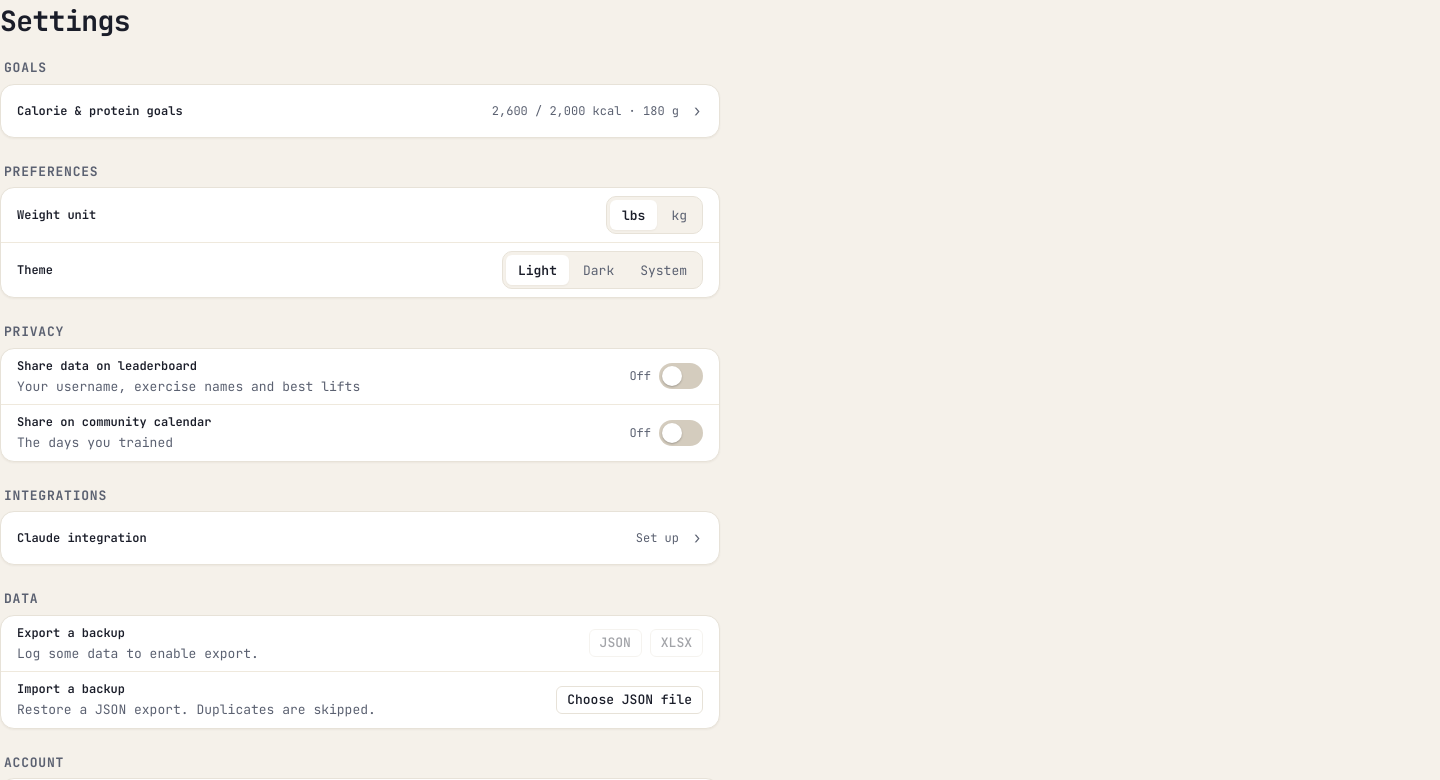
Test: Settings — phone layout › opens a typed edit in a bottom sheet dialog instead of under the row
Click the button "Calorie & protein goals 2,600 / 2,000 kcal · 180 g ›": (100, 110) [1,84,719,136]
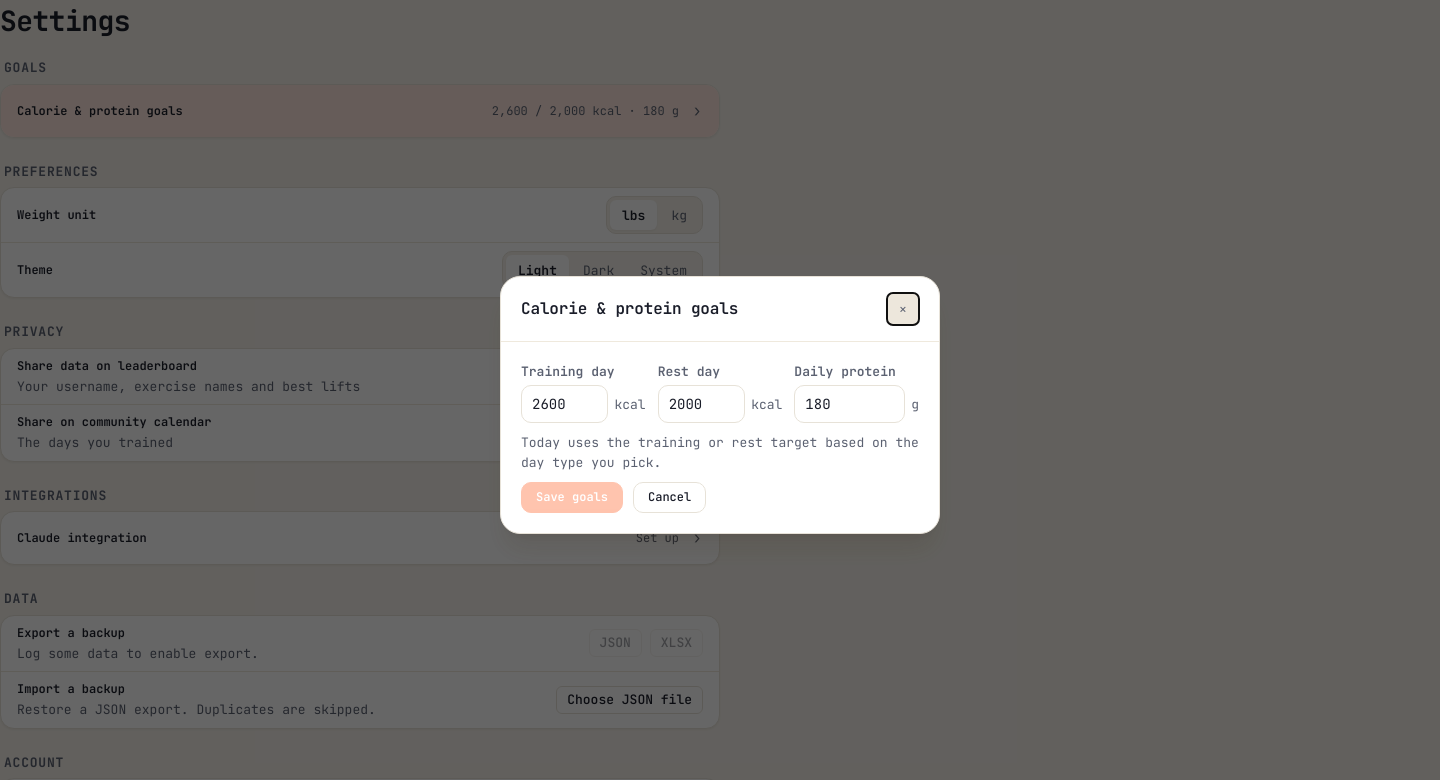
Now the number field labelled "Training day" holds "2600", box [521,385,608,423]
Click the button named "close": (903, 309) [887,293,919,325]
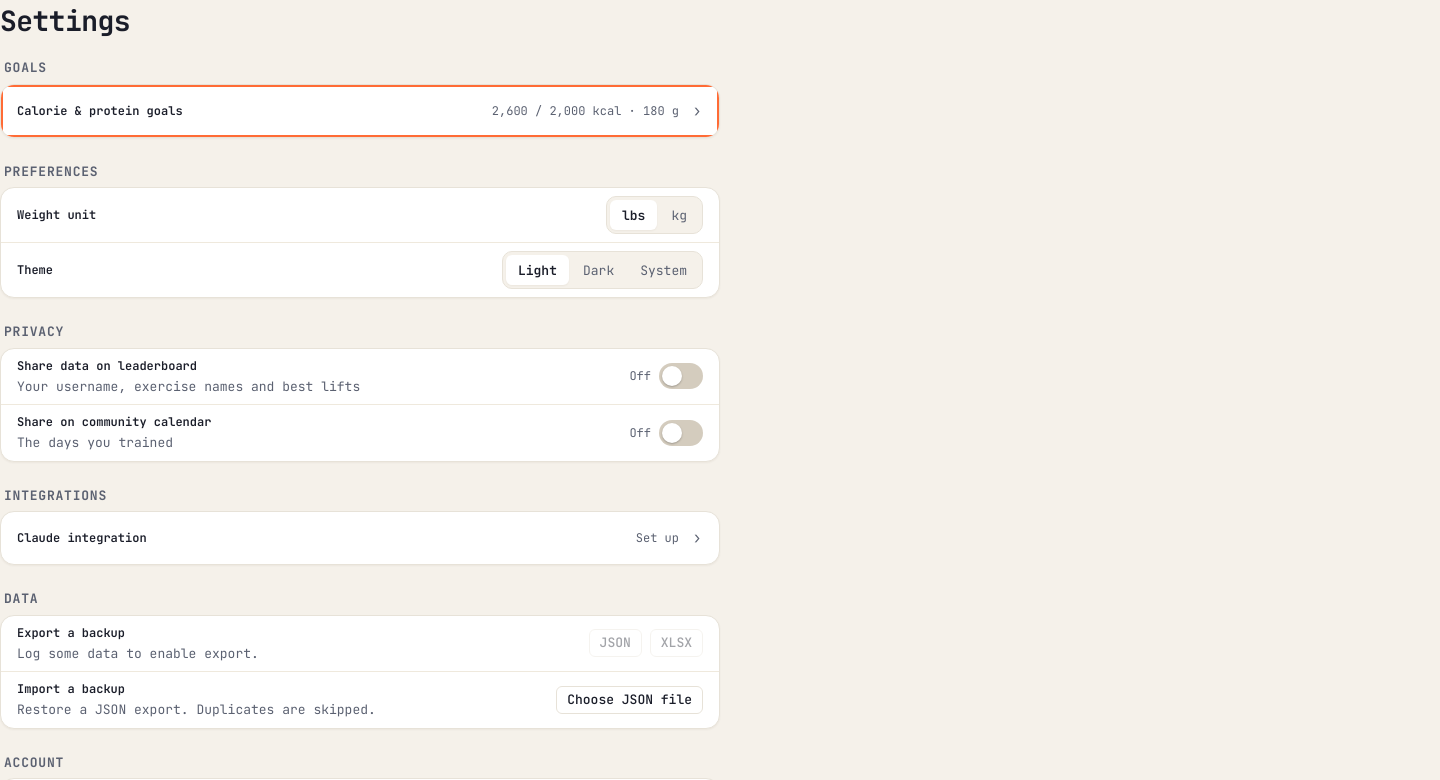
Now the dialog is gone
